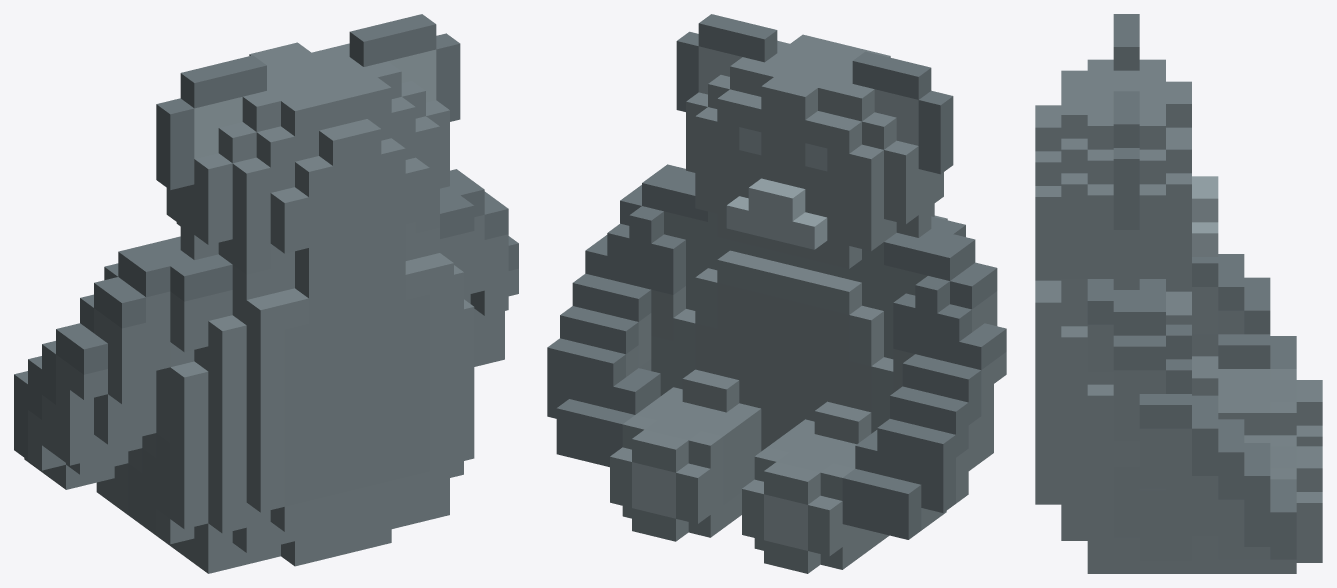
The model's file is bear.obj.
The picture shows the model from 3 angles, left to right: view 1: azimuth 30°, elevation 25°; view 2: azimuth 150°, elevation 25°; view 3: azimuth 270°, elevation 25°; orthographic projection. The views are drawn at different scales.
Bounding box in the file's own units: 1.8 × 1.9 × 1.1.
